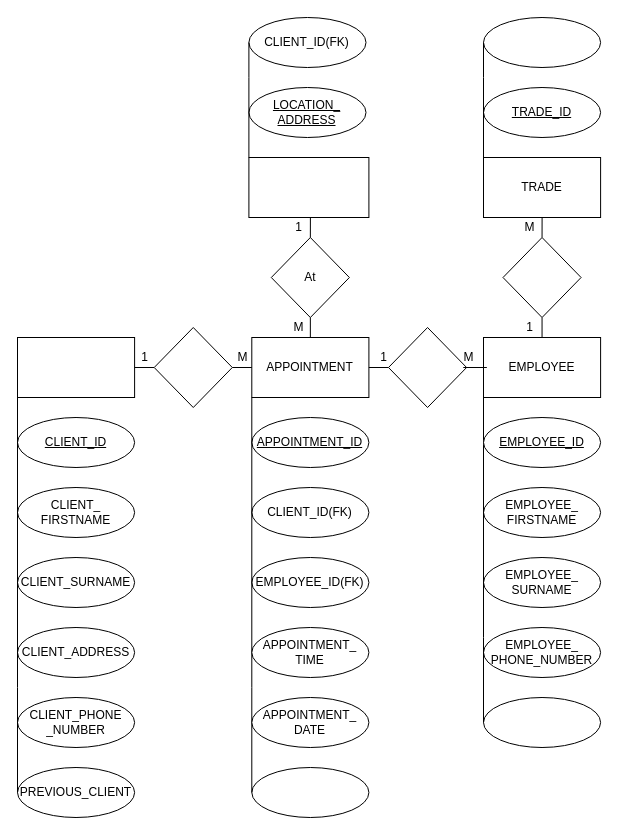
This 619x835 diagram has some shape labels left out. Each missing label, with the box of its shape:
APPOINTMENT_ BRIEF: (251, 766, 369, 818)
Certified: (502, 236, 581, 318)
CLIENT: (16, 336, 135, 398)
LOCATION: (248, 156, 369, 218)
Makes: (153, 326, 232, 408)
TRADE_ID(FK): (482, 696, 601, 748)
TRADE_TITLE: (482, 16, 601, 68)
With: (388, 326, 467, 408)
